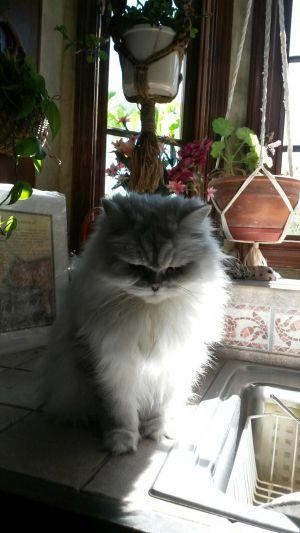persian: (82, 181, 223, 317)
